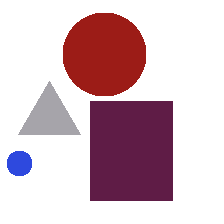circle: (63, 13, 145, 95), (7, 151, 31, 175)
rectangle: (90, 101, 172, 200)
triangle: (18, 81, 80, 134)
